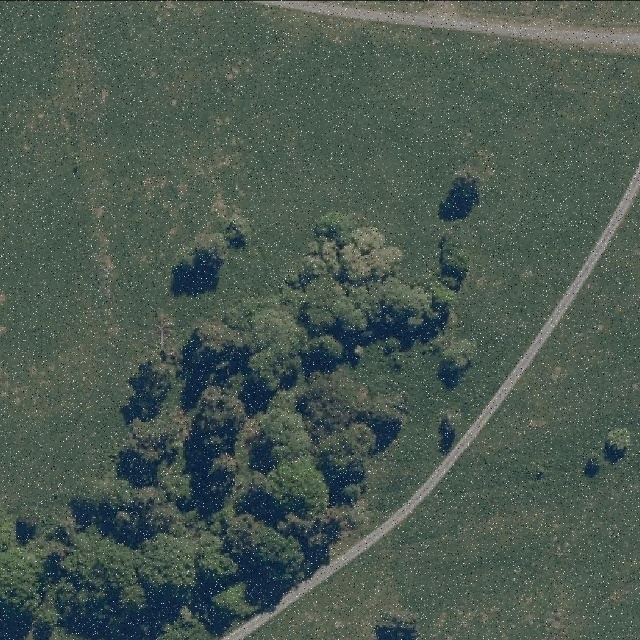vegetation: (1, 164, 484, 640)
